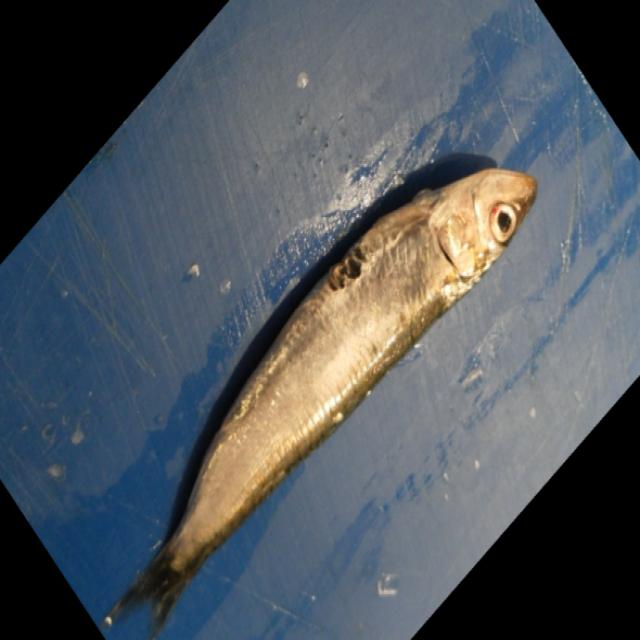Black-Sea-Sprat-tirsi-: (114, 154, 540, 623)
